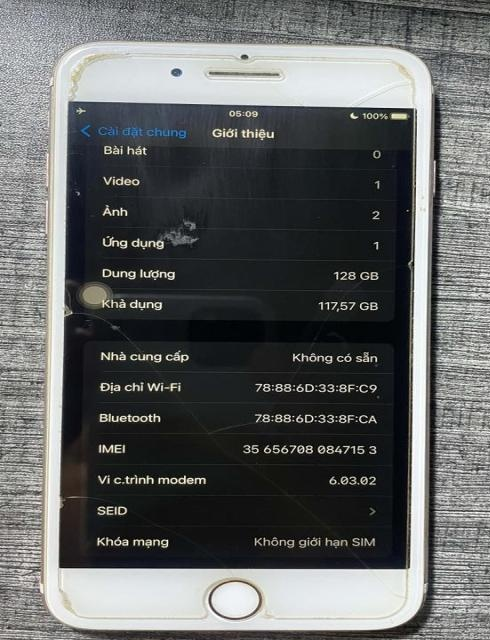physical_damage: (17, 148, 179, 448), (348, 48, 428, 114), (49, 573, 109, 623), (67, 47, 124, 98), (49, 291, 91, 329), (258, 602, 284, 618)
scratch: (148, 214, 218, 257)
